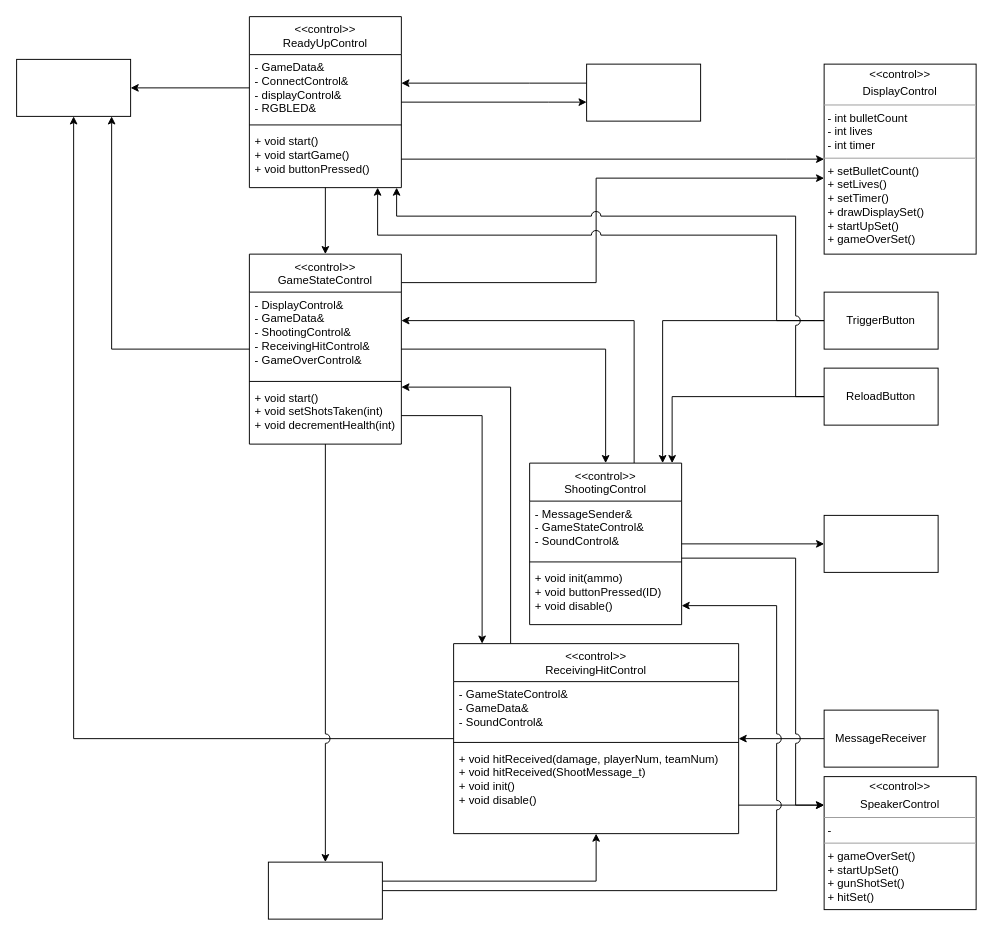
The diagram is 993 pixels wide and 936 high, and some of its shapes have lost their labels. The box of each missing label's shape, as (x1, y1, x2, y2) in pixels:
<<entity>> GameData: (16, 58, 131, 116)
ConnectControl: (586, 63, 701, 121)
GameOverControl: (267, 861, 382, 919)
MessageSender: (823, 514, 938, 572)
